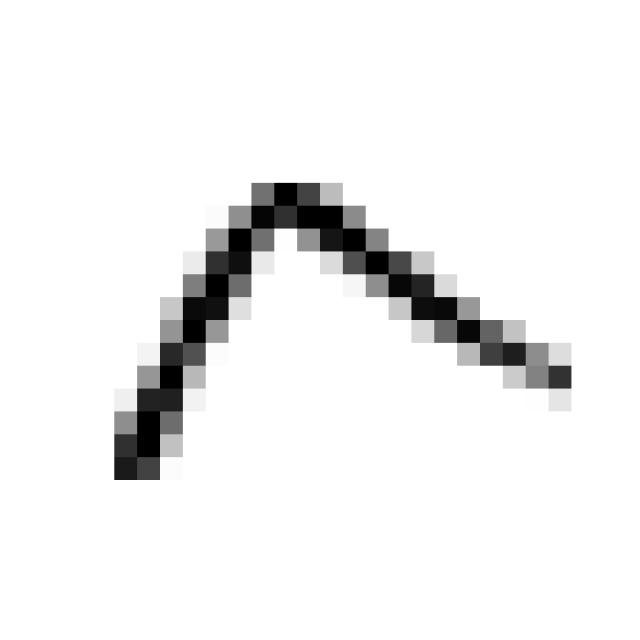8 -eight-: (94, 162, 595, 509)
